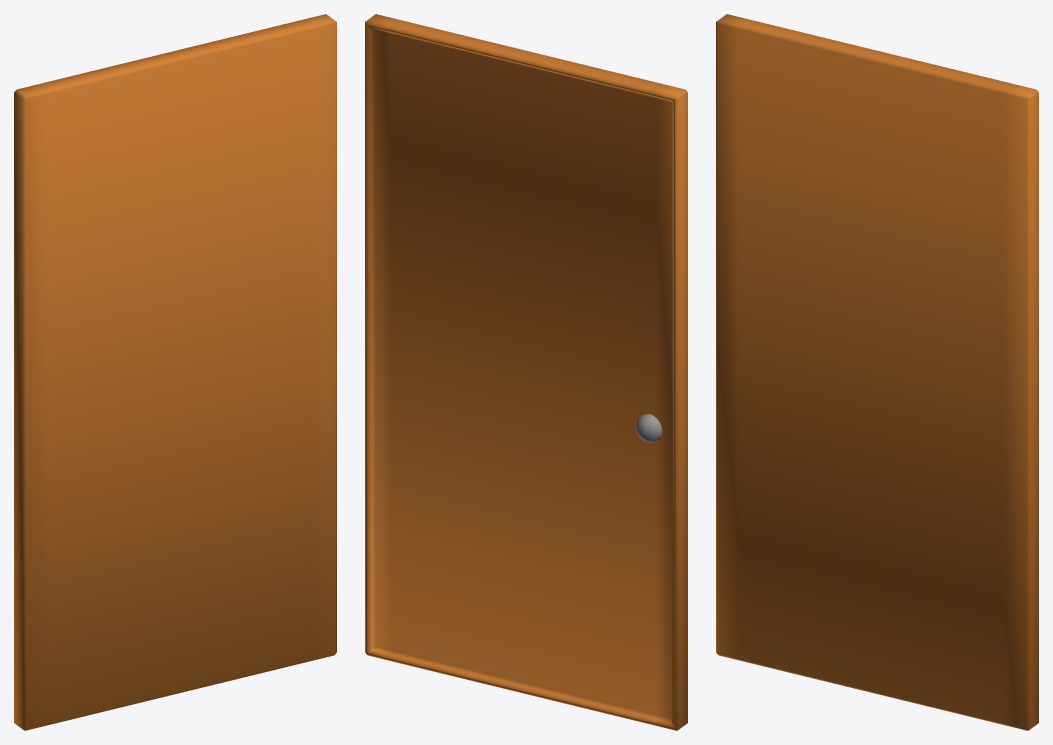
The model's file is Doorfbx.fbx.
3 views of the same model, side by side, from view 1: azimuth 30°, elevation 25°; view 2: azimuth 150°, elevation 25°; view 3: azimuth 330°, elevation 25° (orthographic).
Parts seen in each view (by area): view 1: Door; view 2: Door; view 3: Door.
Part boxes in pixels (box(x1,y1,x2,y2)): Door: box(14, 14, 336, 730); Door: box(365, 14, 687, 730); Door: box(716, 14, 1038, 730).
Size of the model in its own units: 173 by 334 by 15.96.
